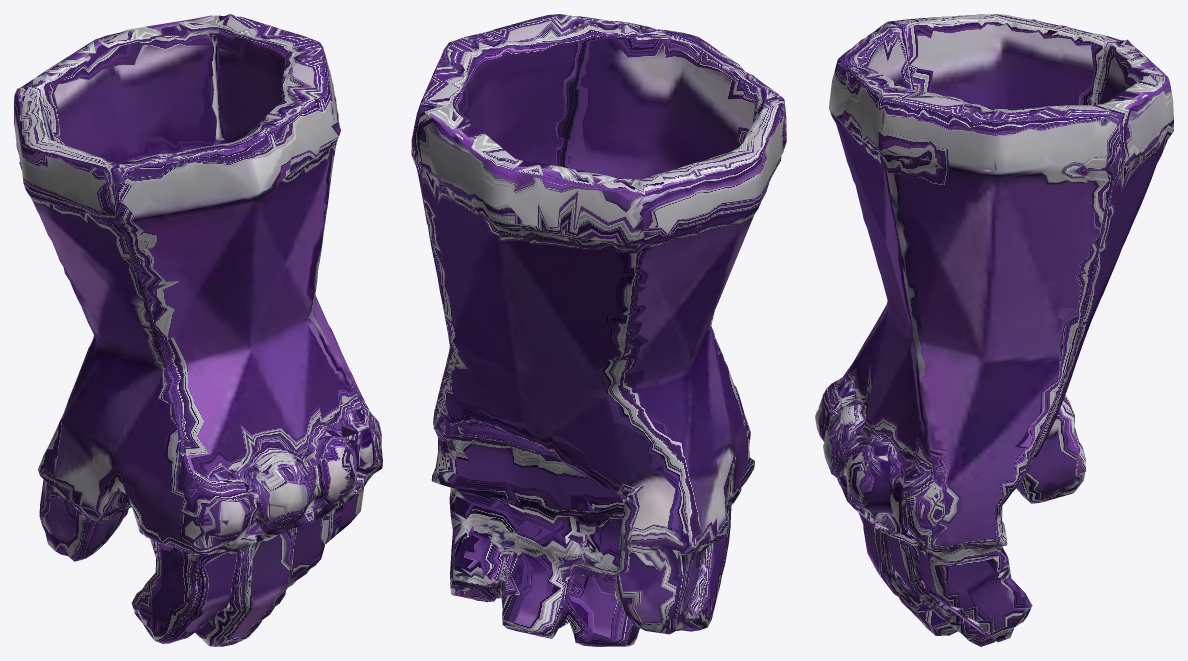
Rendered from amethyst_glove_B.glb.
3 views of the same model, side by side, from view 1: azimuth 30°, elevation 25°; view 2: azimuth 150°, elevation 25°; view 3: azimuth 270°, elevation 25° (orthographic). The views are drawn at different scales.
Size of the model in its own units: 0.1875 by 0.3126 by 0.1785.
1 material, 1 textured.
